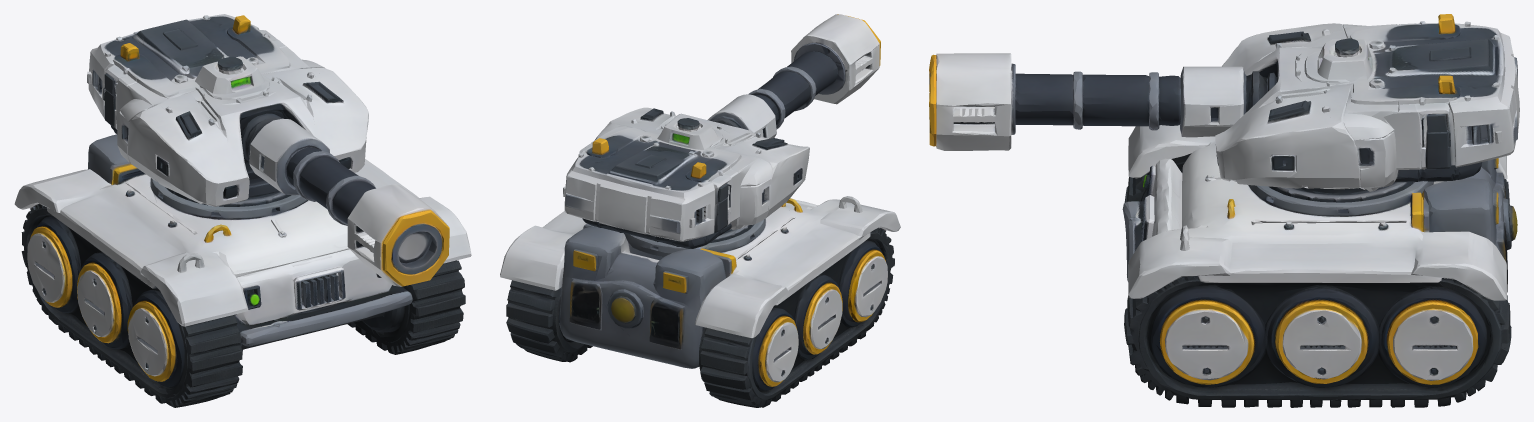
Rendered from tank_pbr.glb.
3 renders of one model, left to right at view 1: azimuth 30°, elevation 25°; view 2: azimuth 150°, elevation 25°; view 3: azimuth 270°, elevation 25°, orthographic. The views are drawn at different scales.
Visible parts, largest first — view 1: model; view 2: model; view 3: model.
Part boxes in pixels (left/top/right/bottom): model: left=14, top=14, right=471, bottom=407; model: left=500, top=14, right=900, bottom=407; model: left=929, top=14, right=1519, bottom=407.
Bounding box in the file's own units: 1.22 × 1.04 × 1.9.
1 material, 1 textured.
